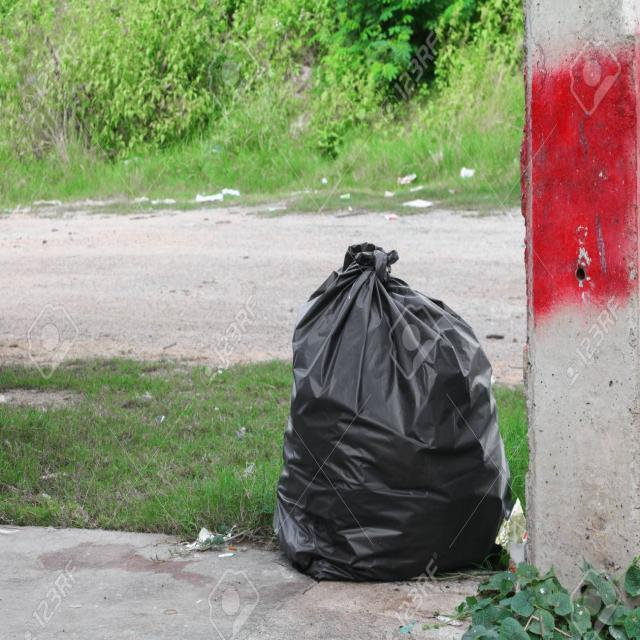plastic_bag: (277, 257, 502, 564)
